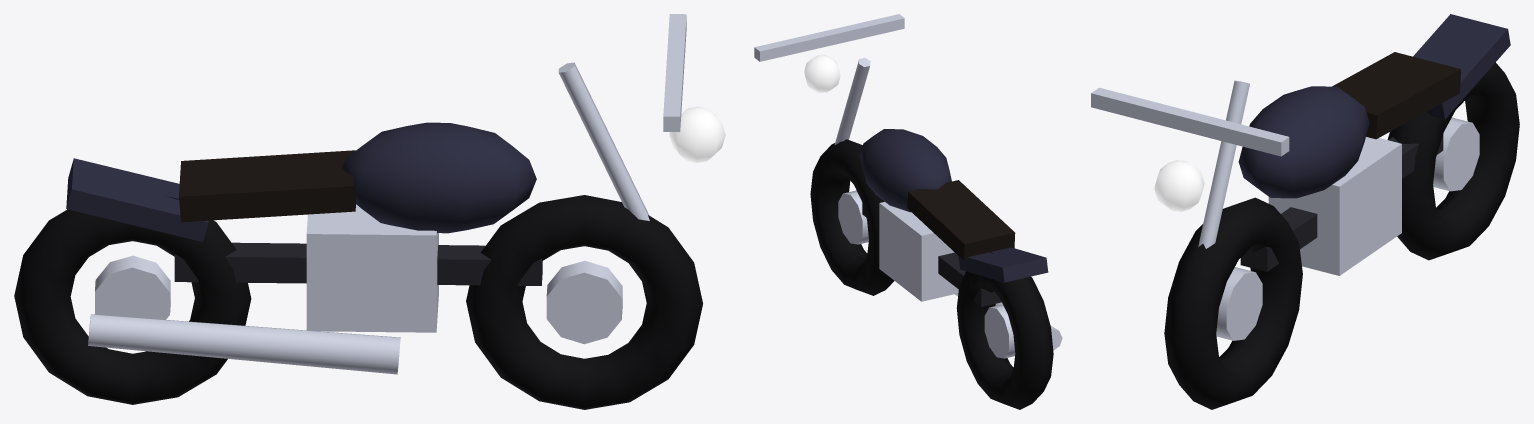
The model's file is Harley_4.glb.
3 views of the same model, side by side, from view 1: azimuth 30°, elevation 25°; view 2: azimuth 150°, elevation 25°; view 3: azimuth 270°, elevation 25° (orthographic). The views are drawn at different scales.
Parts seen in each view (by area): view 1: Harley_4; view 2: Harley_4; view 3: Harley_4.
Boxes of the visible parts, box(x1,y1,x2,y2) form: Harley_4: box(14, 14, 725, 409); Harley_4: box(754, 14, 1062, 409); Harley_4: box(1091, 14, 1519, 409).
Size of the model in its own units: 2.25 by 1.35 by 1.65.
